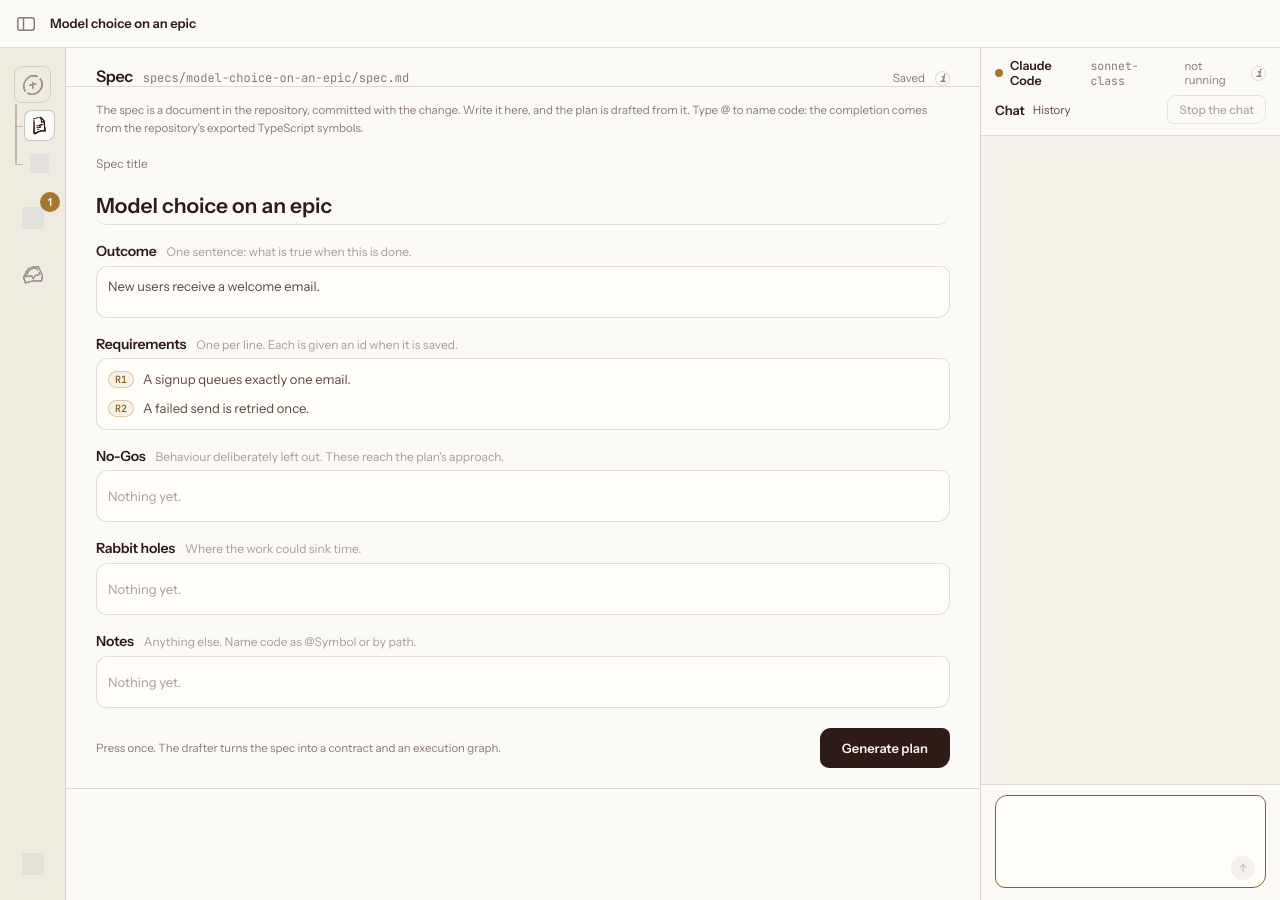
Test: interactive desktop flows › the models chosen on a planning's contract tab › takes an epic's choice on its contract the same way
Click the button "Generate plan" at (885, 748), box [820,728,950,768]
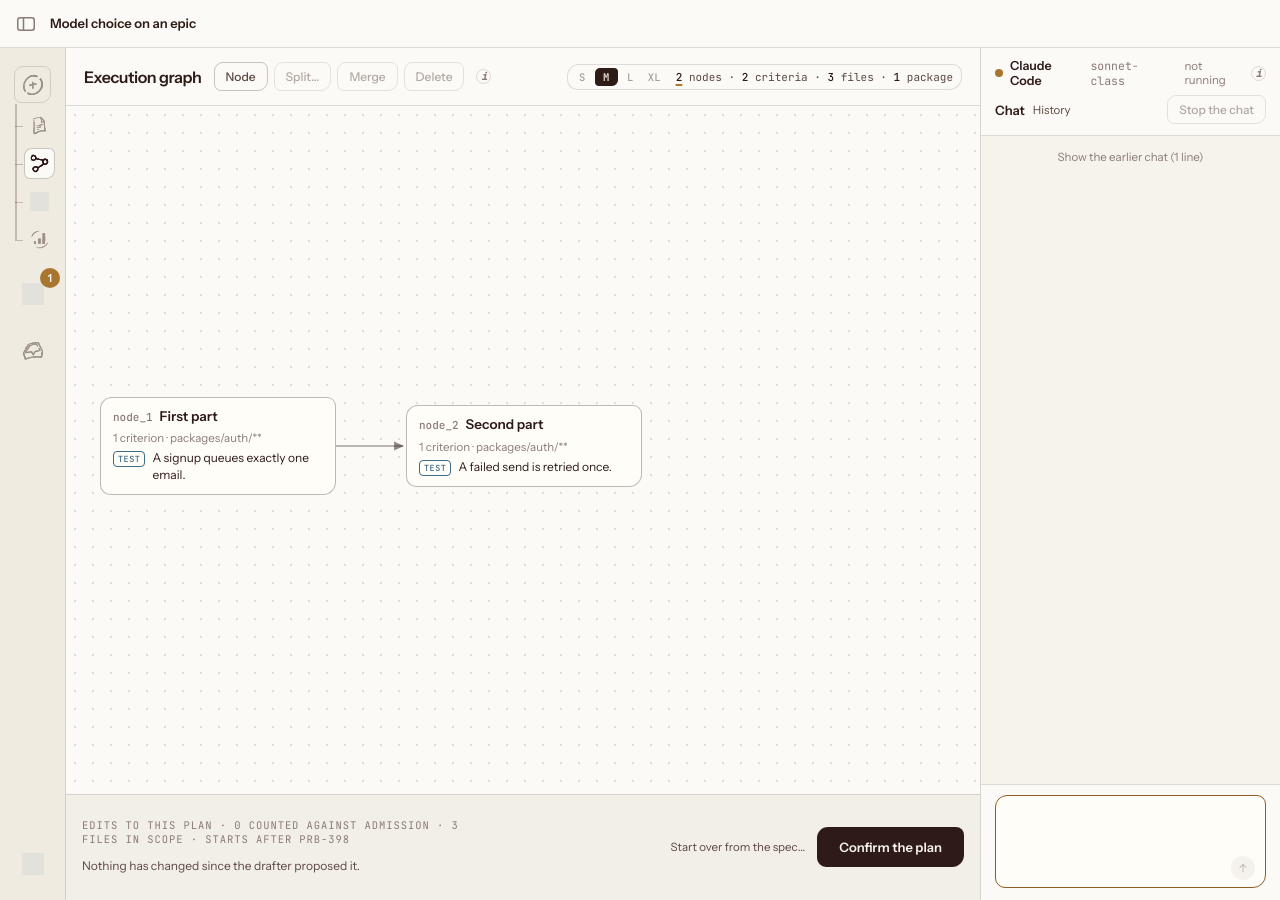
Click the button "Confirm the plan" at (891, 846), box [817,826,964,866]
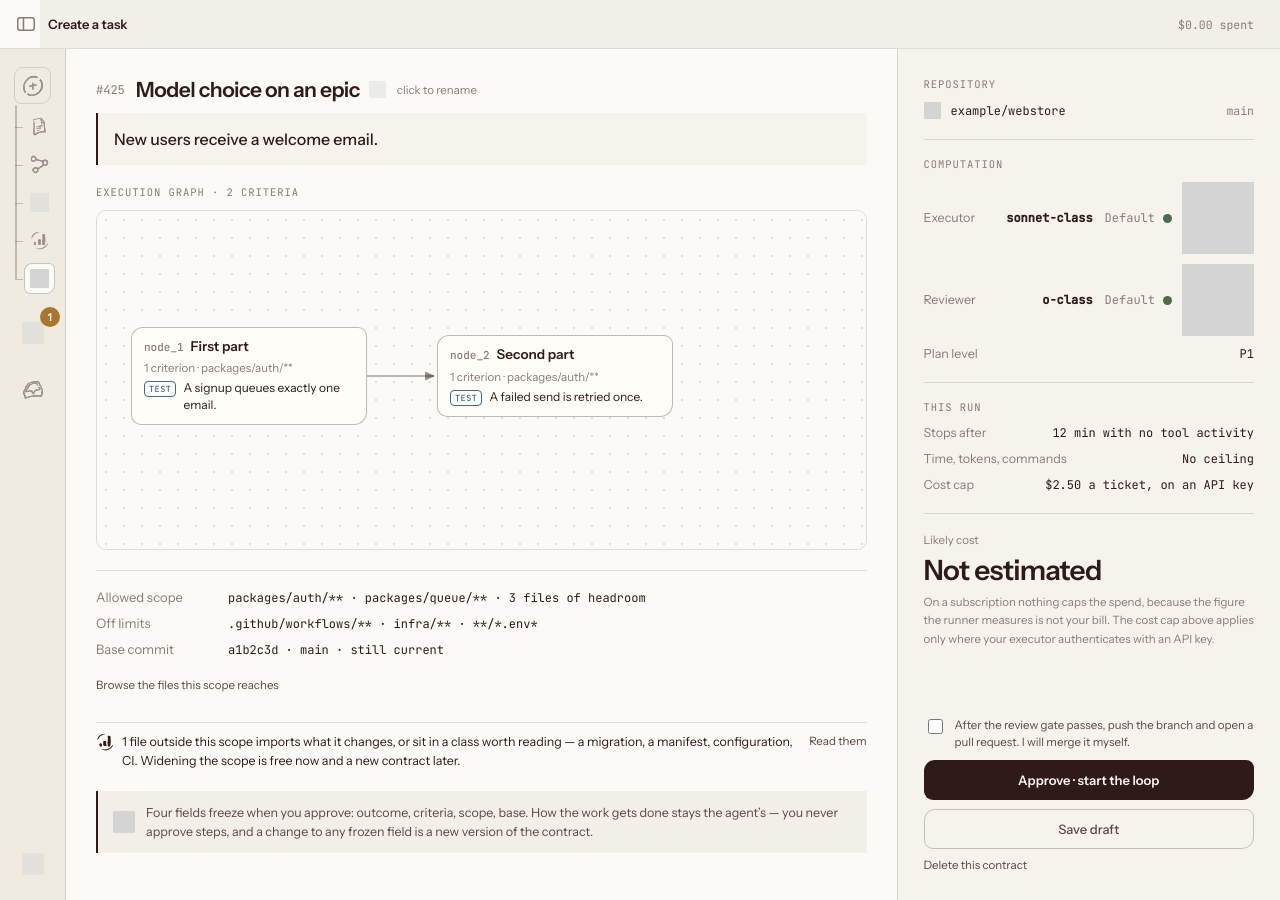
Expected: the button "Approve · start the loop" is shown, [924,760,1254,800]
Click the button with aria-label "Change executor model" at (1130, 218), box [1006,182,1254,254]
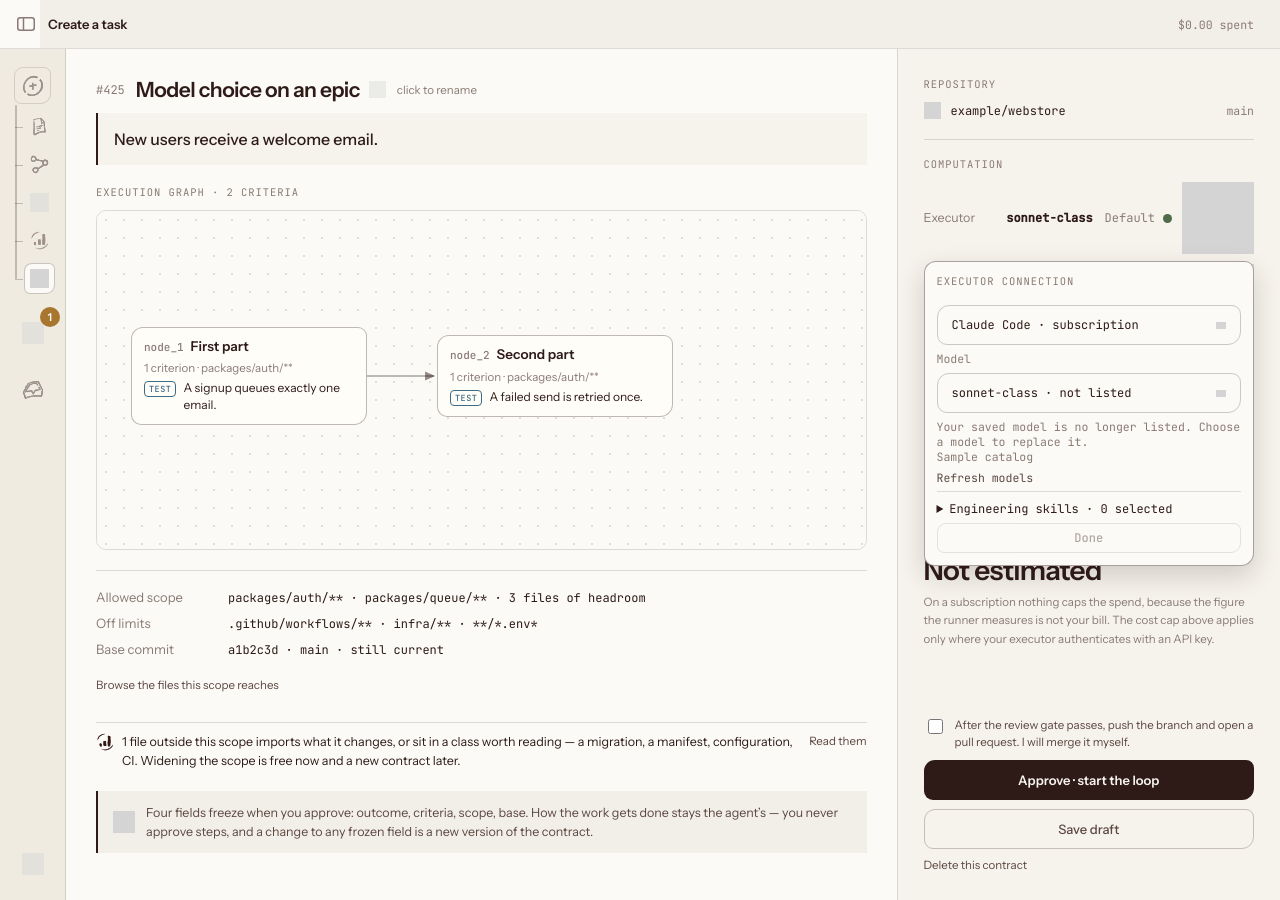
Click the dropdown named "Model" at (1089, 393), box [936,373,1241,413]
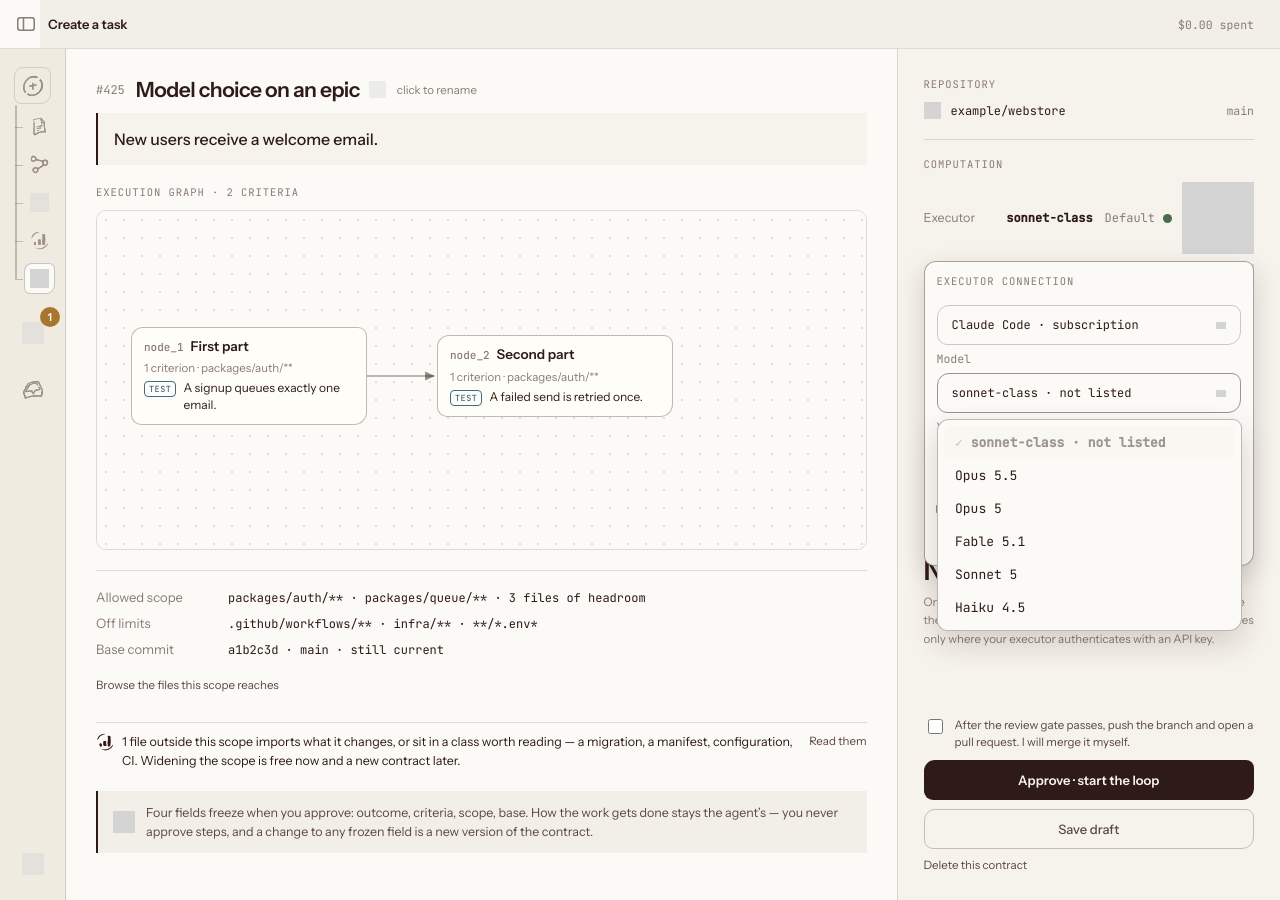
Click the option "Fable 5.1" at (990, 542), box [954,533,1025,550]
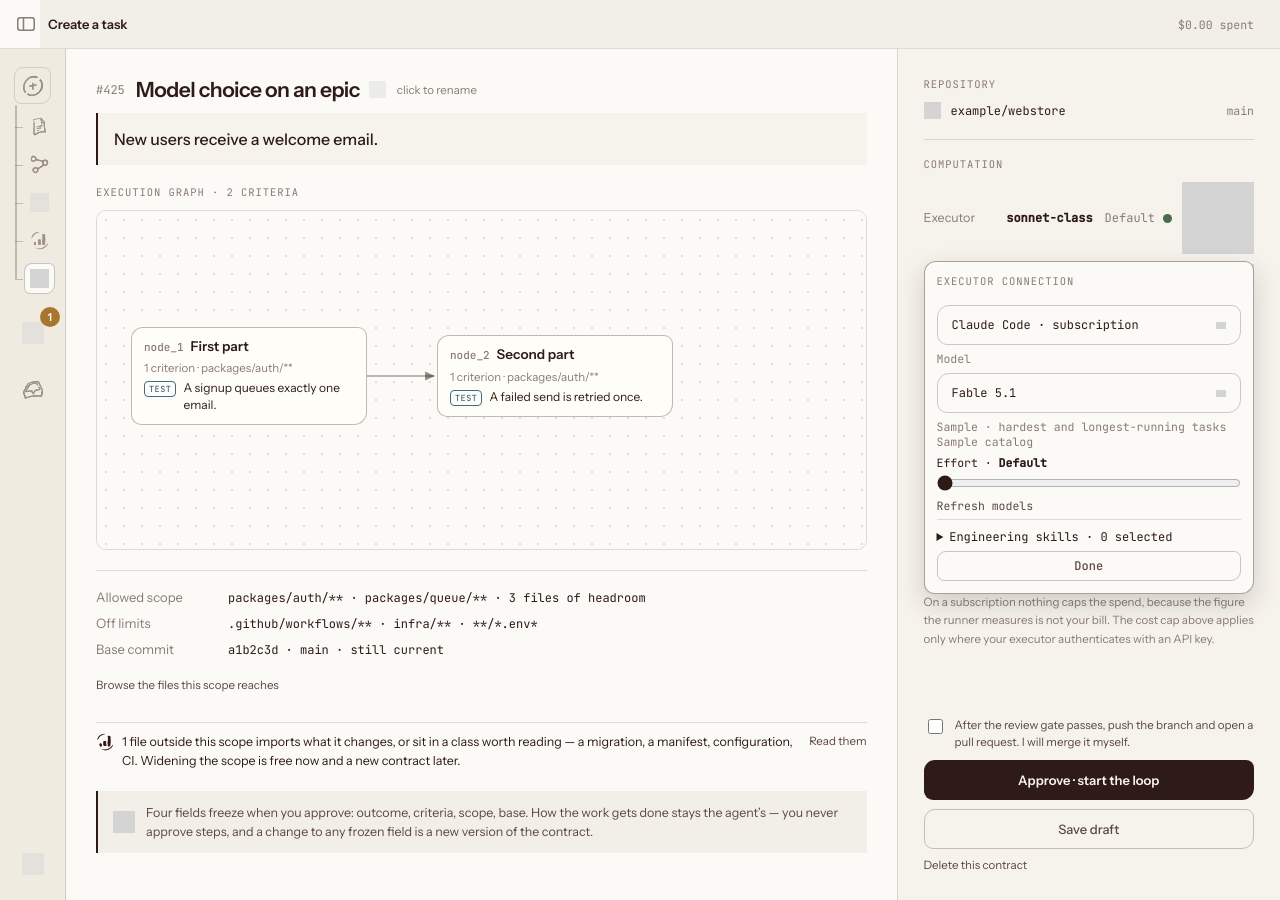
Click the button "Done" at (1089, 566), box [936,551,1241,581]
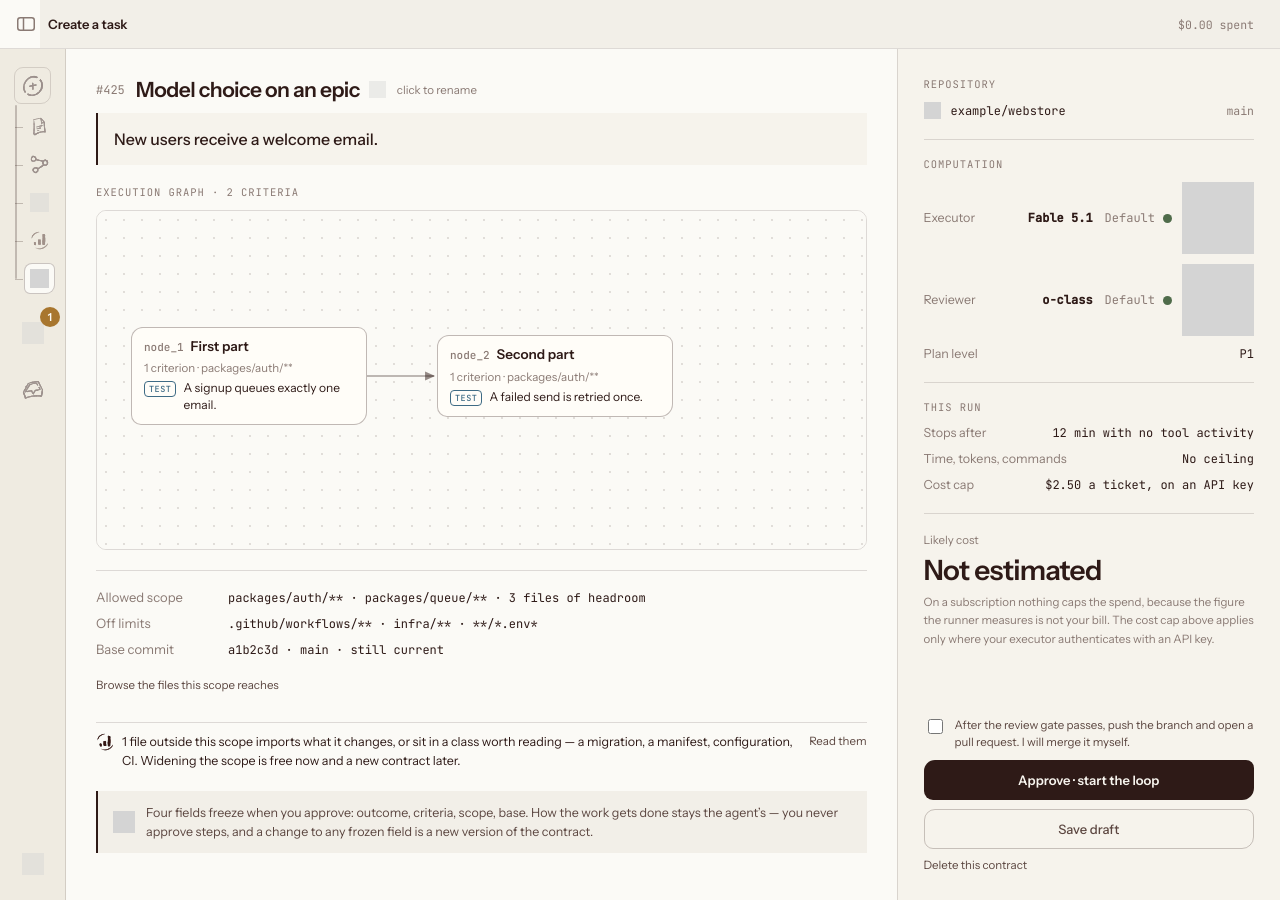
Expected: the text "Fable 5.1" is shown, [1028,210,1093,226]
